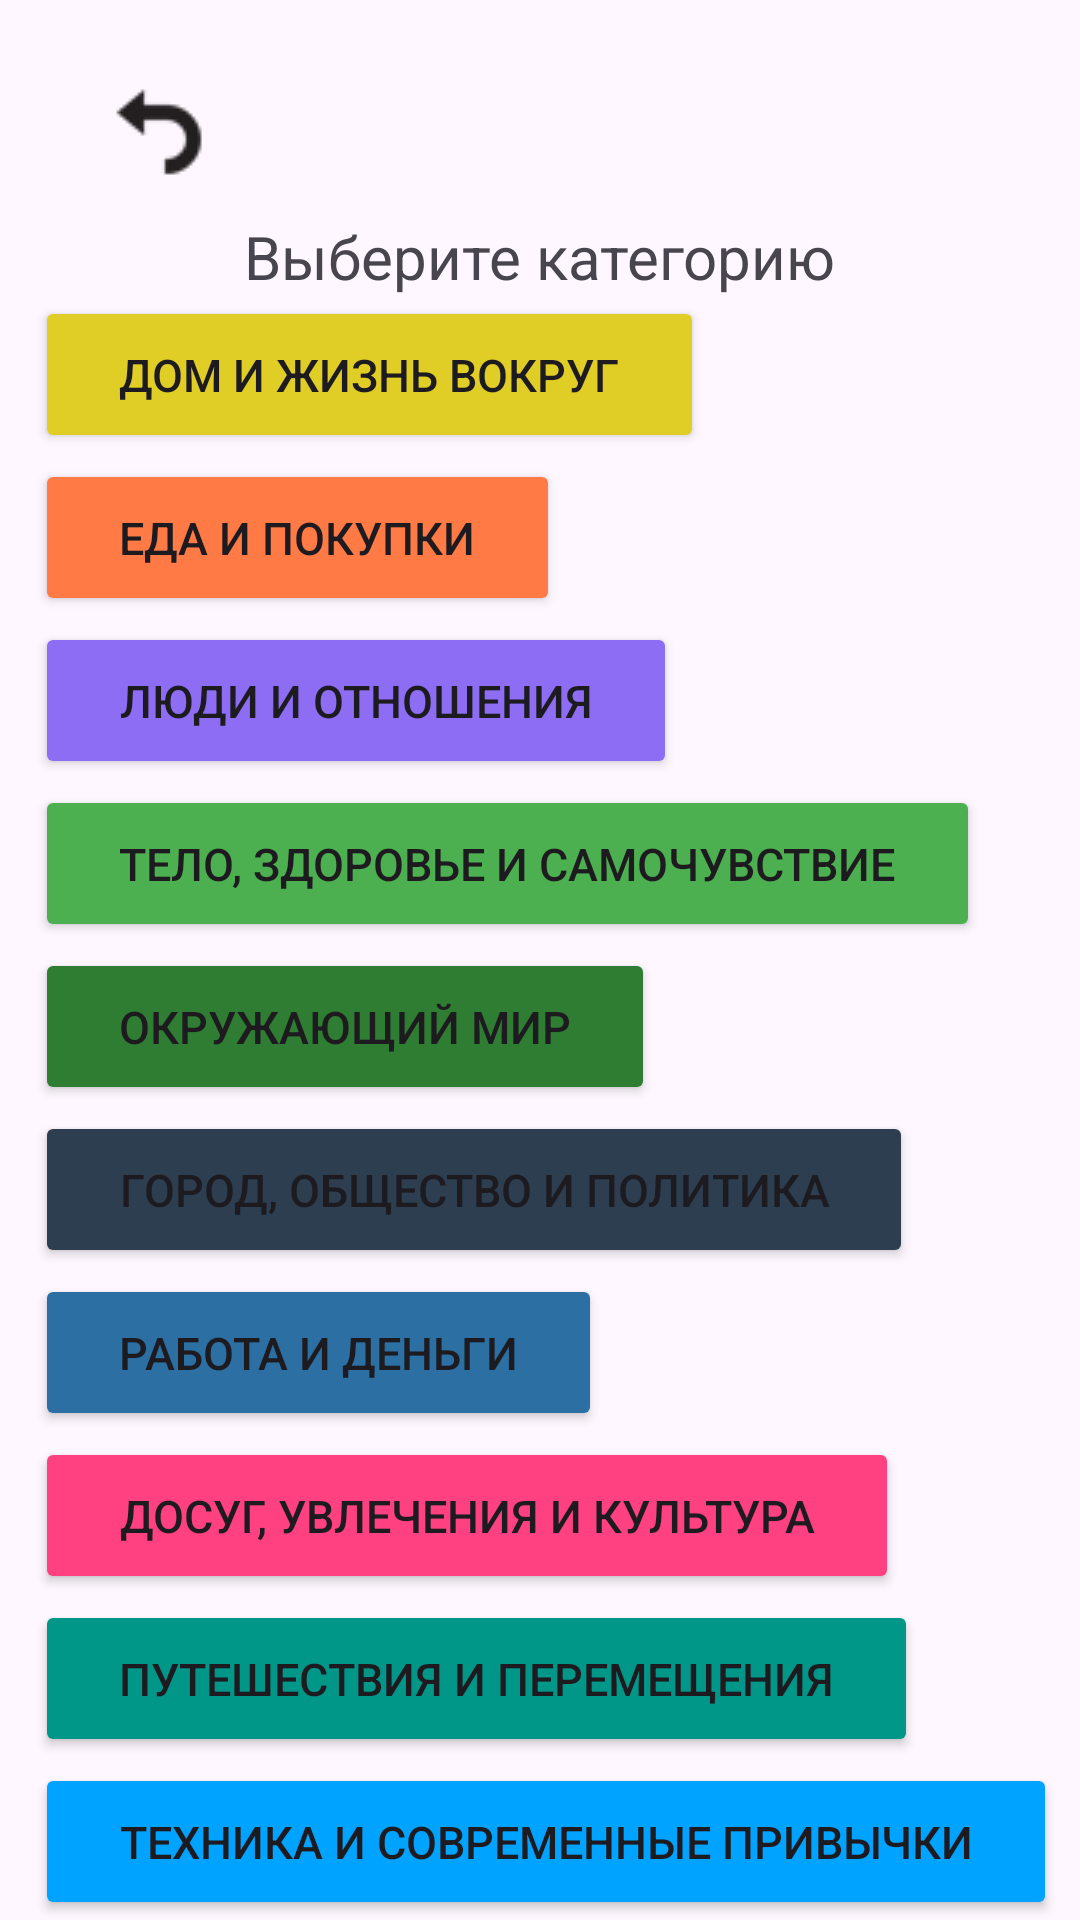

Named icons in this screenshot (1080px x 1920px) and their bounding boxes, (x1, y1, x2, y2):
back: (116, 89, 202, 175)
